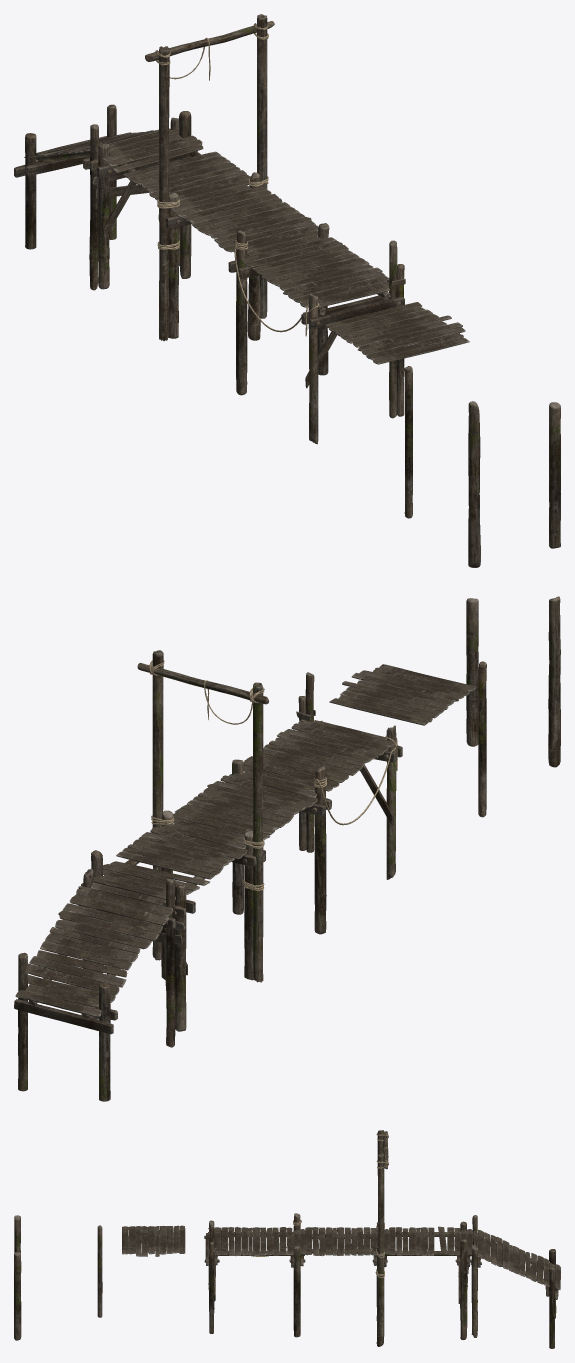
File: pier.glb
3 views of the same model, one above another, from view 1: azimuth 30°, elevation 25°; view 2: azimuth 150°, elevation 25°; view 3: azimuth 270°, elevation 25° (orthographic). The views are drawn at different scales.
Parts seen in each view (by area): view 1: modular_wooden_pier_planks, modular_wooden_pier_section_01, modular_wooden_pier_poles; view 2: modular_wooden_pier_planks, modular_wooden_pier_section_01, modular_wooden_pier_poles; view 3: modular_wooden_pier_planks, modular_wooden_pier_section_01, modular_wooden_pier_poles.
Boxes of the visible parts, <box> form: modular_wooden_pier_planks: <box>14,23,469,388</box>; modular_wooden_pier_section_01: <box>25,14,404,444</box>; modular_wooden_pier_poles: <box>404,366,560,567</box>; modular_wooden_pier_planks: <box>14,660,476,1034</box>; modular_wooden_pier_section_01: <box>18,650,396,1101</box>; modular_wooden_pier_poles: <box>466,596,560,817</box>; modular_wooden_pier_planks: <box>122,1132,560,1303</box>; modular_wooden_pier_section_01: <box>204,1130,558,1348</box>; modular_wooden_pier_poles: <box>14,1215,102,1340</box>.
Bounding box in the file's own units: 3.1 × 7.52 × 19.03.
Materials: 2 (2 with a texture image).
